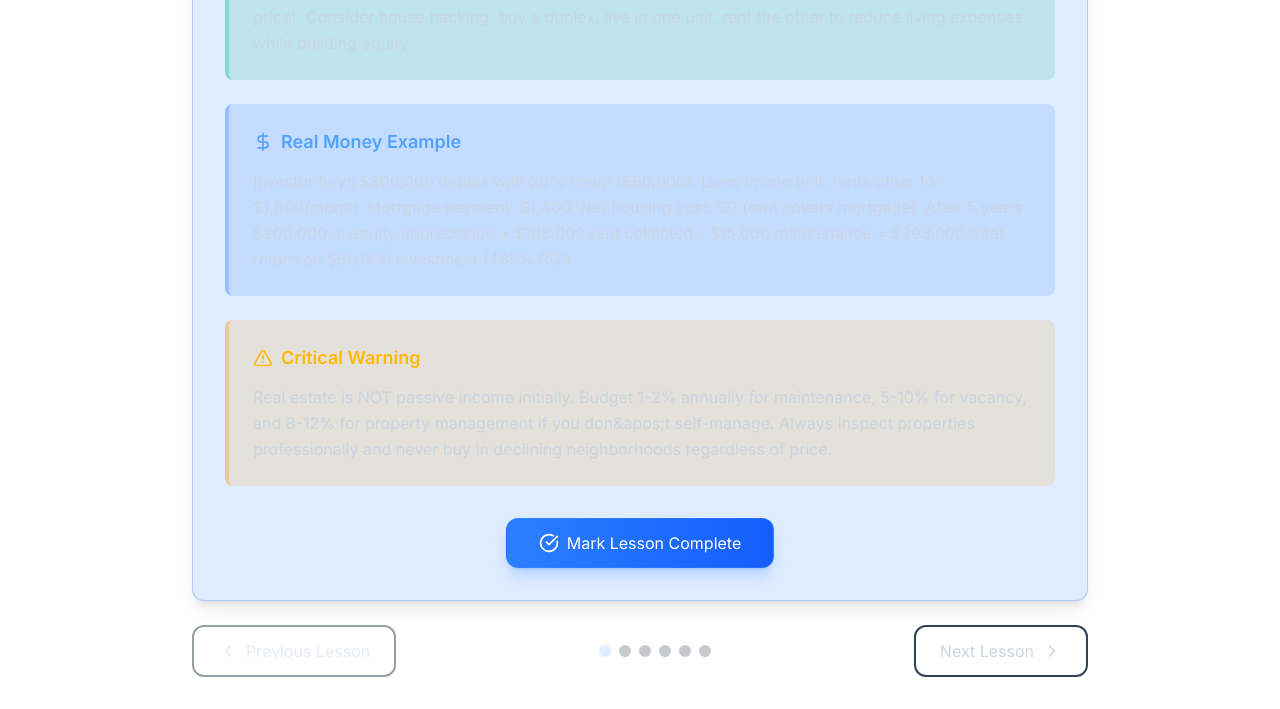
Test: RealEstateAlternativesLessonEnhanced › shows REIT information when navigating
(page scrolled)
# Navigate to REIT lesson
Click the button "Next Lesson". click: (1001, 651)
box: x1=914 y1=625 x2=1088 y2=677
(page scrolled)
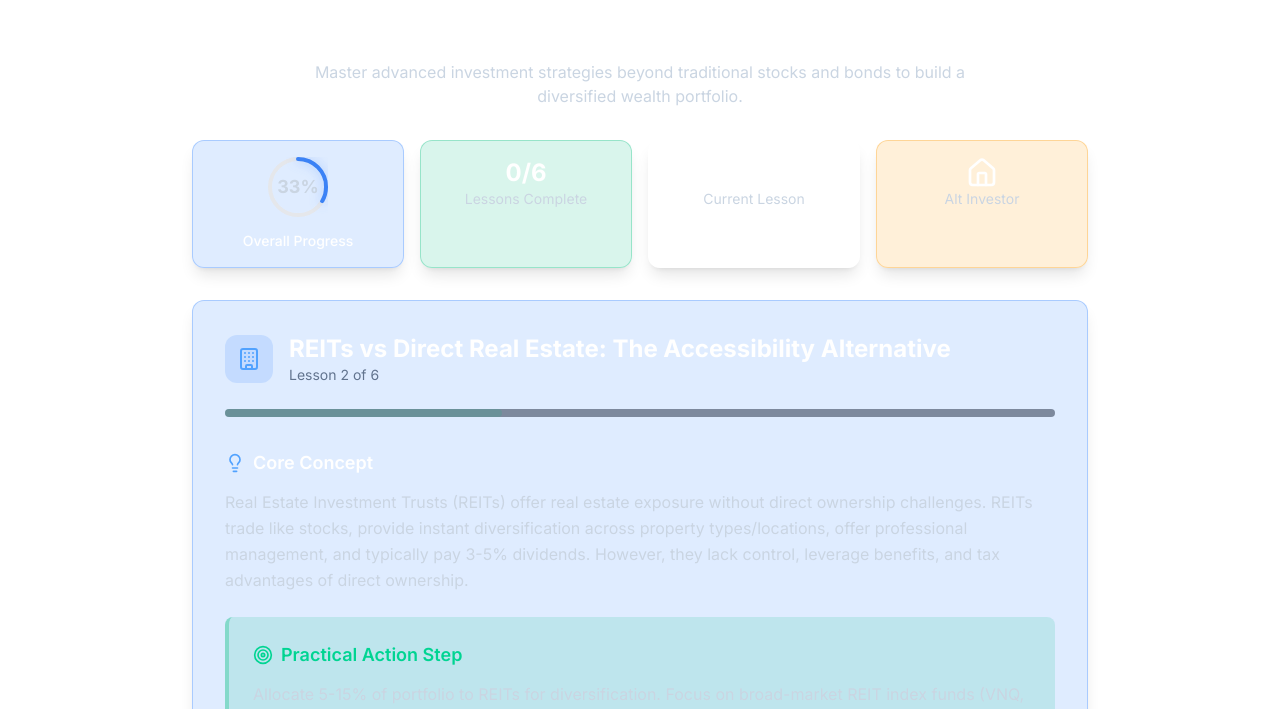
Result: the heading "REITs vs Direct Real Estate: The Accessibility Alternative" is shown at x1=289 y1=333 x2=951 y2=365
